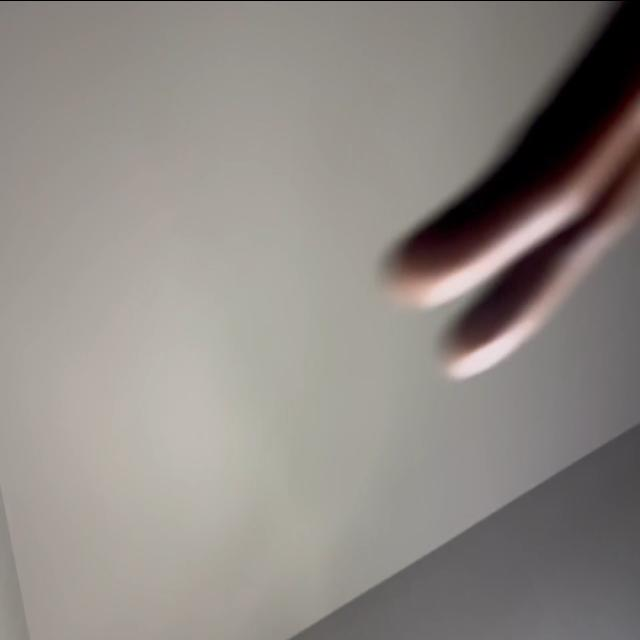Scissors: (376, 0, 640, 381)
